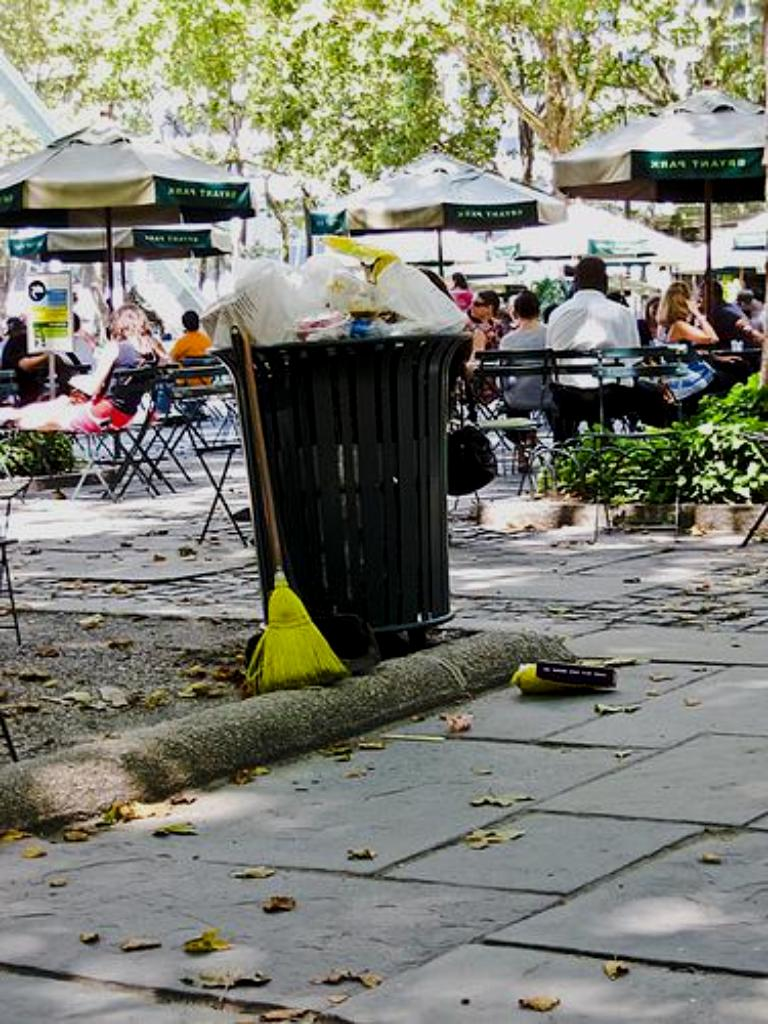dustbin: (220, 332, 470, 650)
